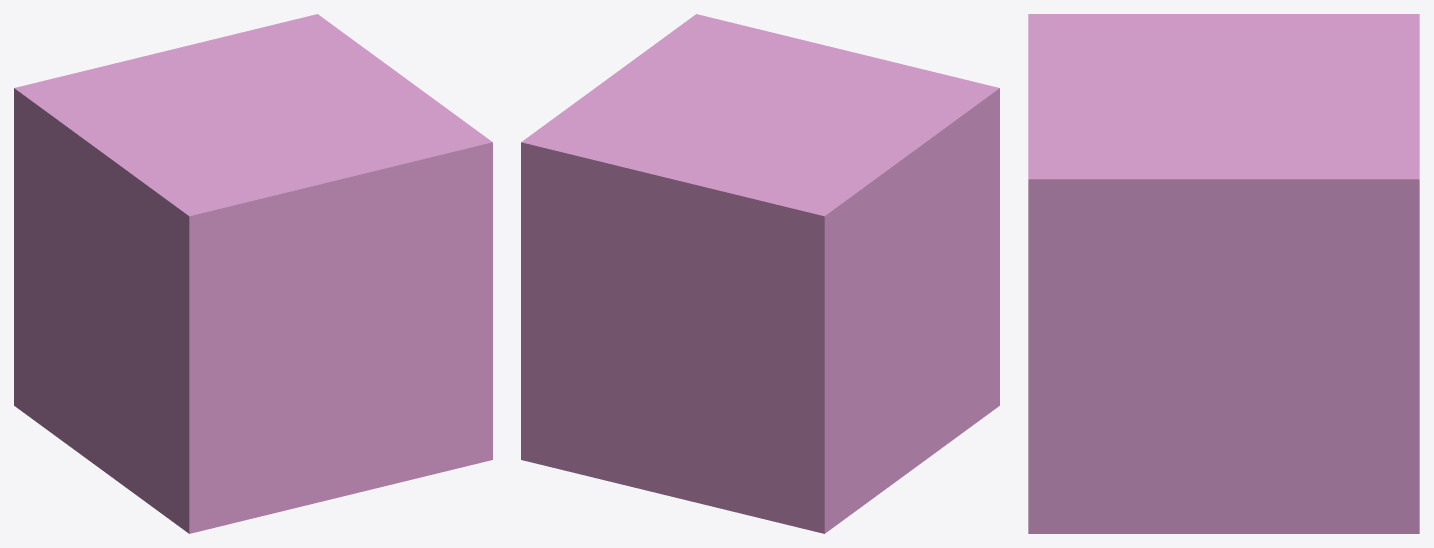
File: $2y$10$ak1vW3JelvLNfYKwdO.glb
The picture shows the model from 3 angles, left to right: view 1: azimuth 30°, elevation 25°; view 2: azimuth 150°, elevation 25°; view 3: azimuth 270°, elevation 25°; orthographic projection. The views are drawn at different scales.
Parts seen in each view (by area): view 1: Cube; view 2: Cube; view 3: Cube.
Boxes of the visible parts, x1,y1,x2,y2 form: Cube: (14,14,492,533); Cube: (521,14,999,533); Cube: (1028,14,1419,533).
Bounding box in the file's own units: 0.1633 × 0.1633 × 0.1633.
